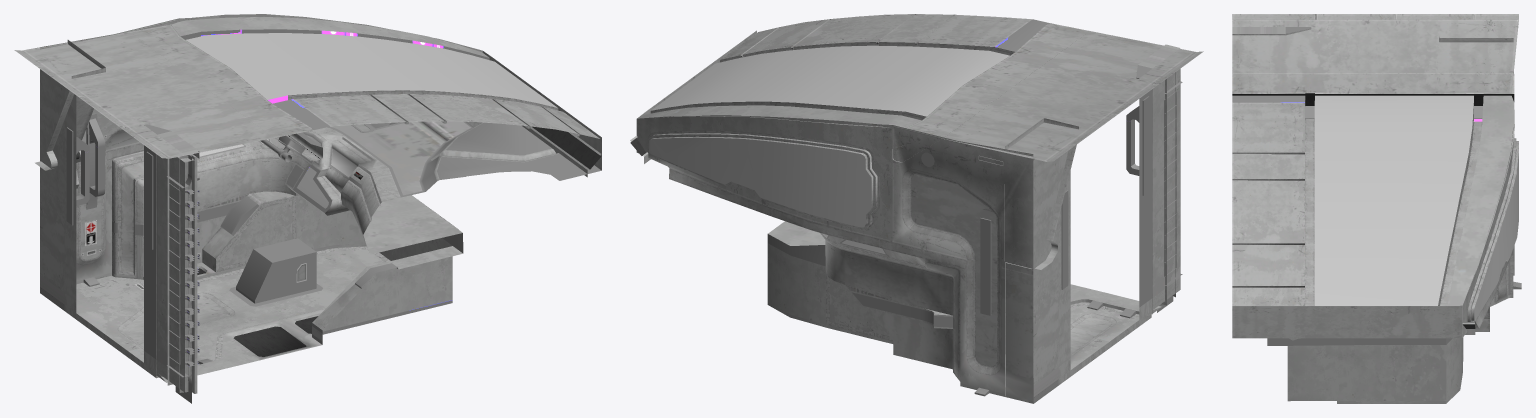
Rendered from Shuttle_Interior_Cockpit.FBX.
3 renders of one model, left to right at view 1: azimuth 30°, elevation 25°; view 2: azimuth 150°, elevation 25°; view 3: azimuth 270°, elevation 25°, orthographic. The views are drawn at different scales.
Parts seen in each view (by area): view 1: Shuttle_Interior_Cockpit; view 2: Shuttle_Interior_Cockpit; view 3: Shuttle_Interior_Cockpit.
Boxes of the visible parts, x1=… form: Shuttle_Interior_Cockpit: x1=14, y1=14, x2=601, y2=403; Shuttle_Interior_Cockpit: x1=630, y1=14, x2=1203, y2=403; Shuttle_Interior_Cockpit: x1=1232, y1=14, x2=1521, y2=403.
Bounding box in the file's own units: 3.92 × 2.16 × 2.3.
